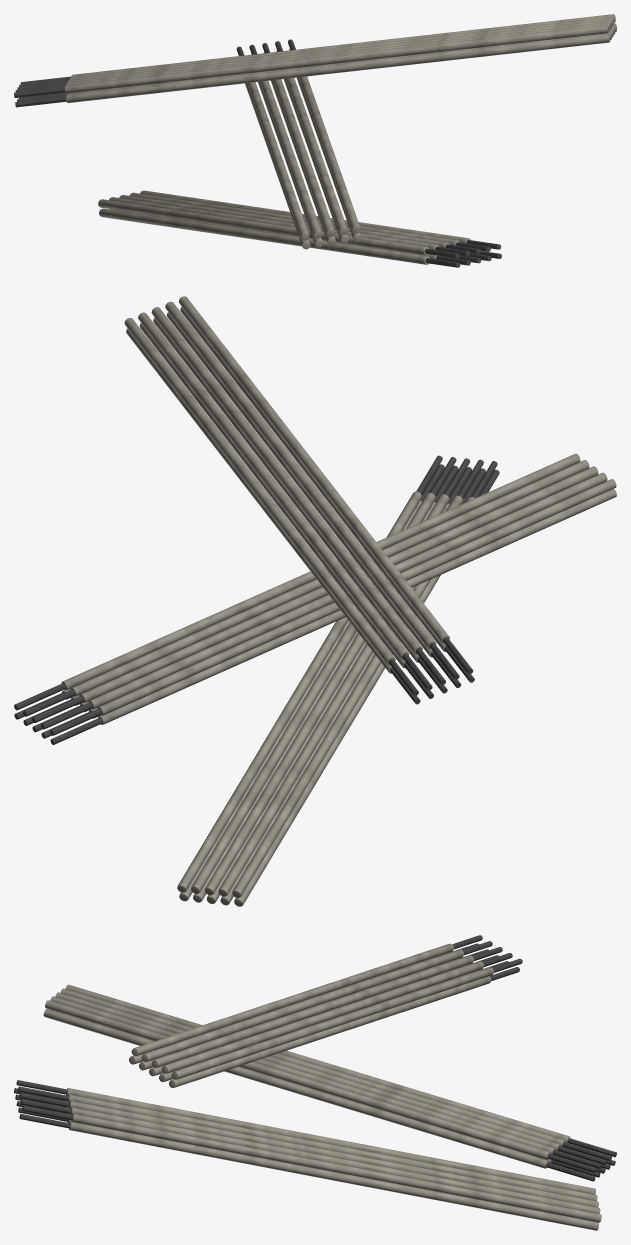
The model's file is EST-MET-008_anim.glb.
3 renders of one model, top to bottom at view 1: azimuth 30°, elevation 25°; view 2: azimuth 150°, elevation 25°; view 3: azimuth 270°, elevation 25°, orthographic. The views are drawn at different scales.
Visible parts, largest first — view 1: EST-MET-008_anim2, EST-MET-008_anim0, EST-MET-008_anim1; view 2: EST-MET-008_anim2, EST-MET-008_anim1, EST-MET-008_anim0; view 3: EST-MET-008_anim0, EST-MET-008_anim1, EST-MET-008_anim2.
Boxes of the visible parts, x1,y1,x2,y2 form: EST-MET-008_anim2: (14,14,616,107); EST-MET-008_anim0: (98,190,501,267); EST-MET-008_anim1: (236,39,361,249); EST-MET-008_anim2: (124,296,474,704); EST-MET-008_anim1: (14,453,616,744); EST-MET-008_anim0: (177,455,499,906); EST-MET-008_anim0: (14,1080,601,1230); EST-MET-008_anim1: (43,984,616,1181); EST-MET-008_anim2: (129,935,522,1087).
Bounding box in the file's own units: 0.3012 × 0.1886 × 0.3495.
Materials: 2 (2 with a texture image).
